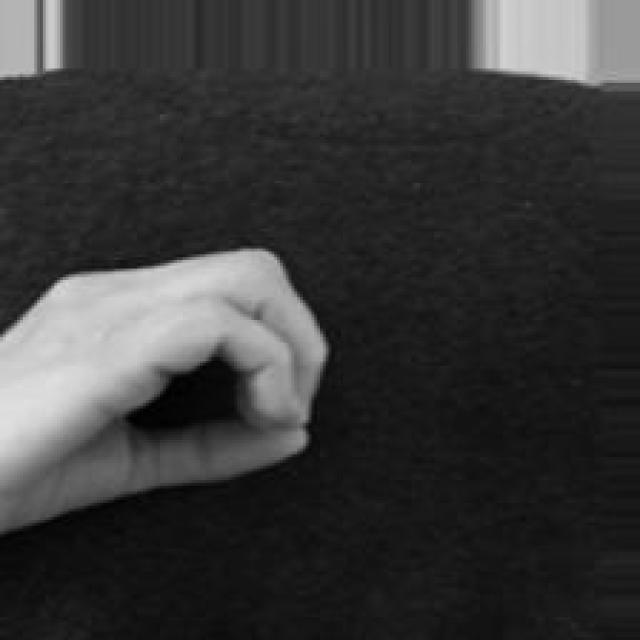O: (3, 232, 336, 559)
